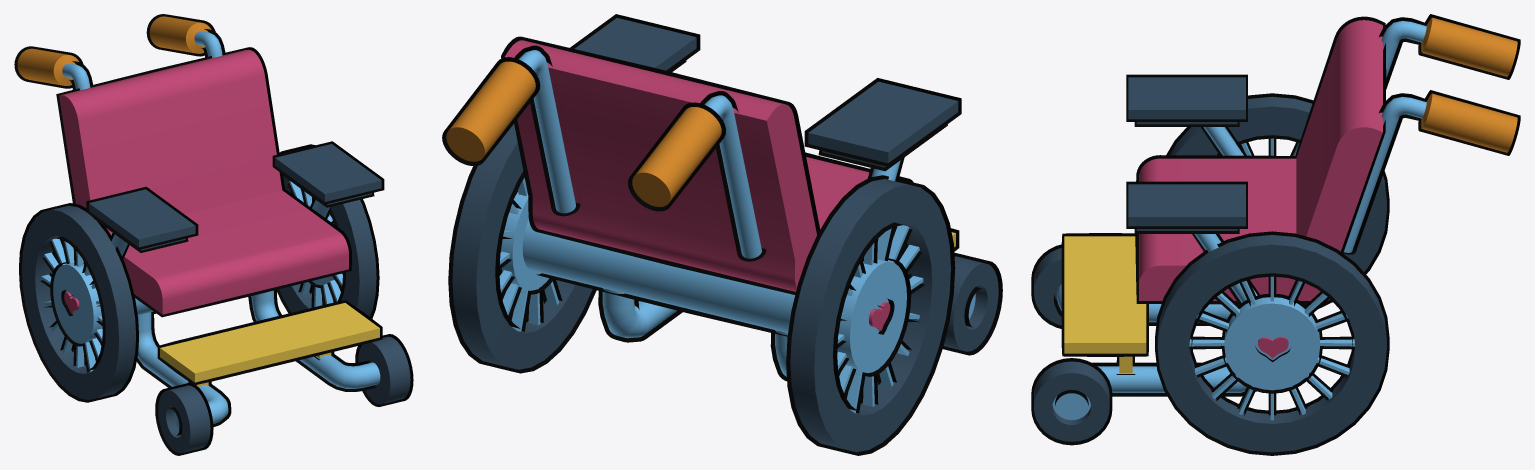
File: cadeirarodas.glb
3 renders of one model, left to right at view 1: azimuth 30°, elevation 25°; view 2: azimuth 150°, elevation 25°; view 3: azimuth 270°, elevation 25°, orthographic. The views are drawn at different scales.
Visible parts, largest first — view 1: cadeira, cadeira2; view 2: cadeira, cadeira2; view 3: cadeira, cadeira2.
Boxes of the visible parts, bbox=[...] form: cadeira: bbox=[17, 16, 410, 453]; cadeira2: bbox=[14, 14, 413, 455]; cadeira: bbox=[446, 18, 998, 452]; cadeira2: bbox=[442, 14, 1002, 455]; cadeira: bbox=[1034, 17, 1517, 452]; cadeira2: bbox=[1031, 14, 1520, 455].
Bounding box in the file's own units: 3.34 × 3.39 × 4.61.
